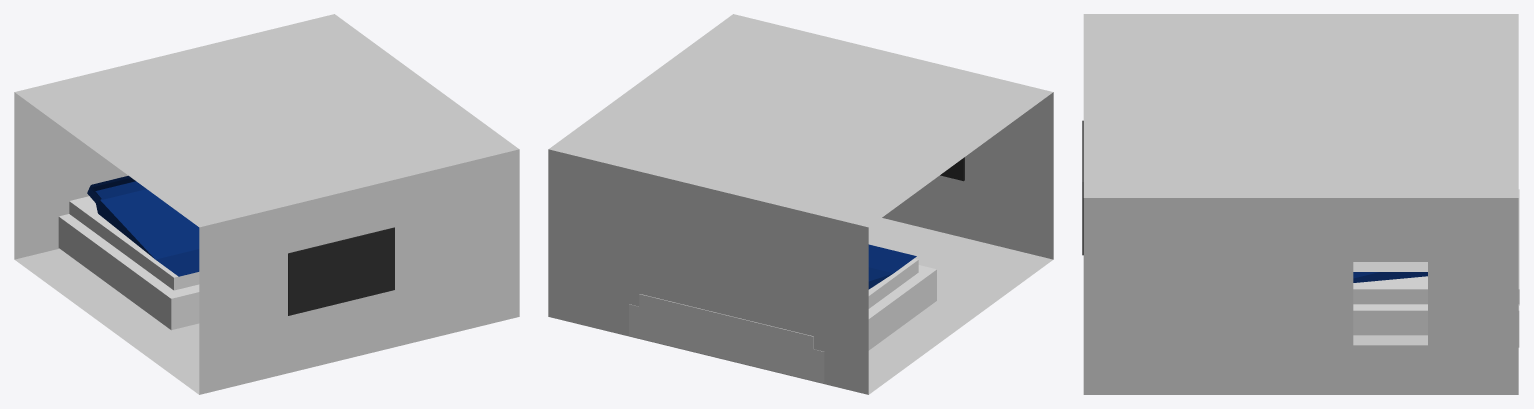
File: room.gltf
3 renders of one model, left to right at view 1: azimuth 30°, elevation 25°; view 2: azimuth 150°, elevation 25°; view 3: azimuth 270°, elevation 25°, orthographic. The views are drawn at different scales.
Parts seen in each view (by area): view 1: plane, window, quilt, bed, smallbed; view 2: plane, bed, smallbed, quilt; view 3: plane, bed, smallbed, quilt.
Part boxes in pixels (x1=…): plane: x1=14, y1=14, x2=519, y2=394; window: x1=288, y1=227, x2=394, y2=315; quilt: x1=87, y1=175, x2=199, y2=276; bed: x1=58, y1=214, x2=199, y2=330; smallbed: x1=69, y1=196, x2=199, y2=290; plane: x1=548, y1=14, x2=1053, y2=394; bed: x1=629, y1=265, x2=936, y2=383; smallbed: x1=639, y1=258, x2=918, y2=350; quilt: x1=868, y1=244, x2=916, y2=289; plane: x1=1083, y1=14, x2=1518, y2=394; bed: x1=1353, y1=304, x2=1519, y2=347; smallbed: x1=1353, y1=189, x2=1519, y2=305; quilt: x1=1353, y1=272, x2=1427, y2=282.
Bounding box in the file's own units: 6.32 × 3 × 6.03.
